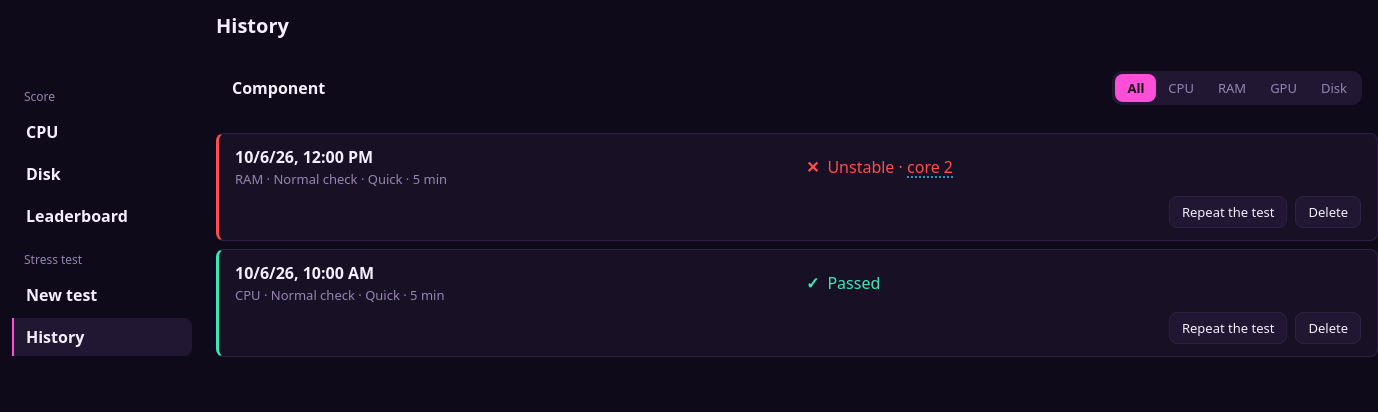
Test: a failing delete shows the message and the confirmation gives way
This screenshot has width=1378, height=412.
Expected: the number of list items is 2, [216,133,1377,241]; [216,249,1377,357]
Click the 2nd button "Delete" at [1328, 328], box [1296,312,1361,344]
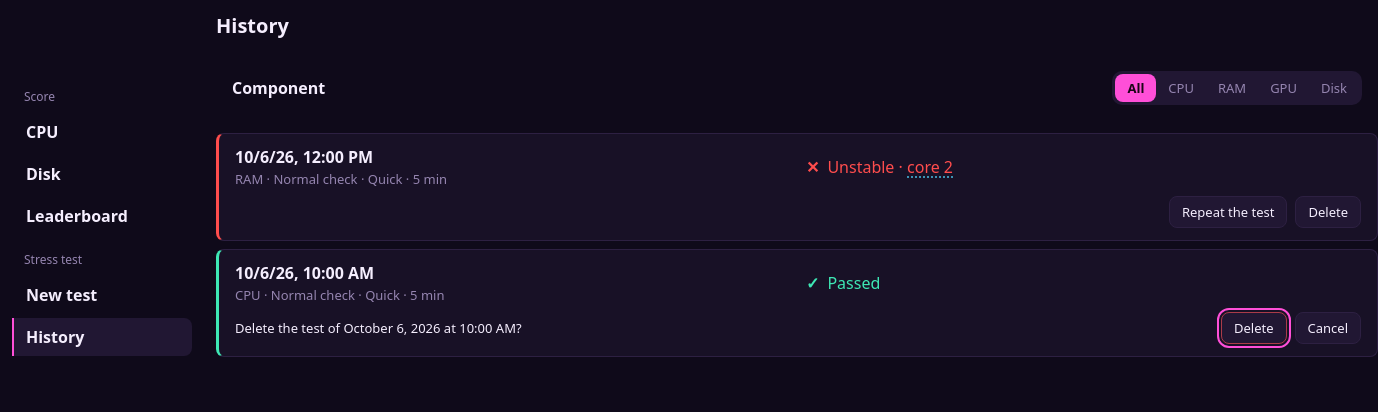
Click the 2nd button "Delete" at [1254, 328], box [1221,312,1286,344]
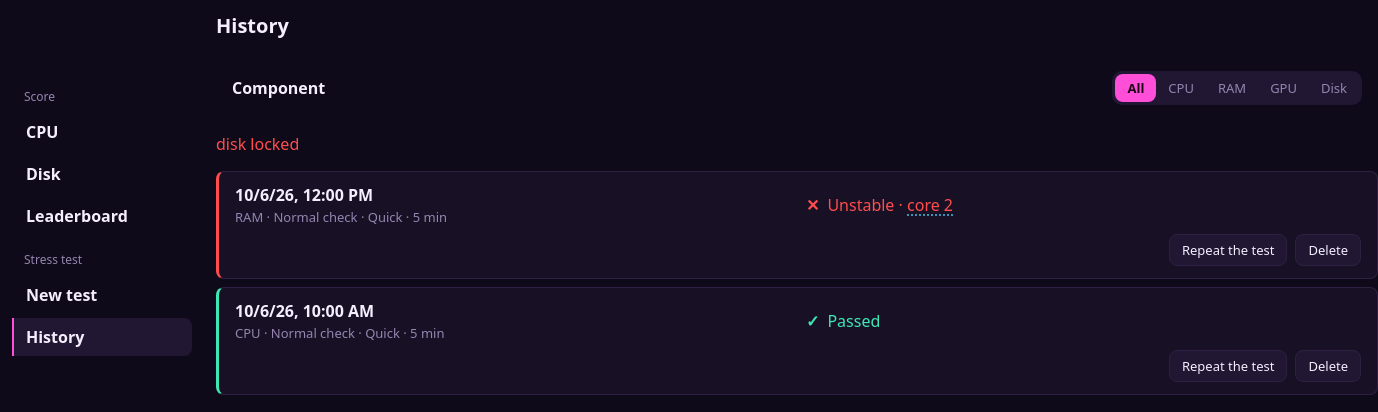
Now the message reads "disk locked", box [216,133,299,155]
